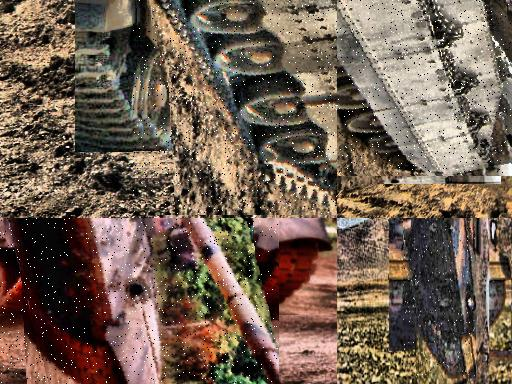tanks: (33, 219, 279, 384), (160, 1, 338, 200), (338, 1, 512, 176), (404, 219, 477, 378), (489, 219, 490, 227)
